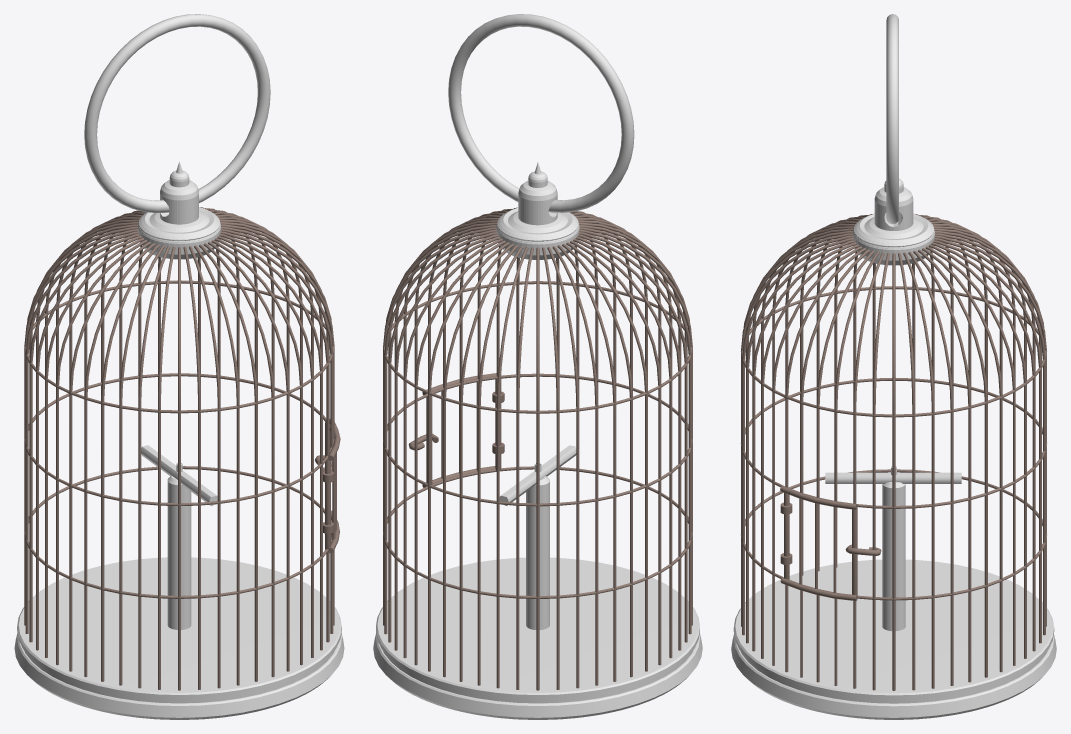
The model's file is bird_cage_test.fbx.
3 views of the same model, side by side, from view 1: azimuth 30°, elevation 25°; view 2: azimuth 150°, elevation 25°; view 3: azimuth 270°, elevation 25° (orthographic).
Parts seen in each view (by area): view 1: Cylinder.007, Cylinder.008, Cylinder.019, Cylinder.009, Cylinder.016, Cylinder.012, Cylinder.010, Cylinder.014; view 2: Cylinder.007, Cylinder.008, Cylinder.019, Cylinder.009, Cylinder.016, Cylinder.012, Cylinder.010, Cylinder.014; view 3: Cylinder.007, Cylinder.008, Cylinder.009, Cylinder.016, Cylinder.012, Cylinder.010, Cylinder.019, Cylinder.014.
Part boxes in pixels (x1=…): Cylinder.007: x1=24, y1=207, x2=334, y2=690; Cylinder.008: x1=14, y1=557, x2=344, y2=719; Cylinder.019: x1=84, y1=14, x2=270, y2=213; Cylinder.009: x1=24, y1=280, x2=334, y2=598; Cylinder.016: x1=138, y1=161, x2=220, y2=259; Cylinder.012: x1=167, y1=475, x2=191, y2=629; Cylinder.010: x1=323, y1=419, x2=340, y2=553; Cylinder.014: x1=141, y1=445, x2=217, y2=505; Cylinder.007: x1=383, y1=207, x2=692, y2=690; Cylinder.008: x1=373, y1=557, x2=702, y2=719; Cylinder.019: x1=448, y1=14, x2=634, y2=212; Cylinder.009: x1=383, y1=281, x2=692, y2=598; Cylinder.016: x1=496, y1=162, x2=579, y2=259; Cylinder.012: x1=526, y1=476, x2=549, y2=629; Cylinder.010: x1=422, y1=373, x2=504, y2=487; Cylinder.014: x1=499, y1=445, x2=576, y2=505; Cylinder.007: x1=741, y1=214, x2=1046, y2=690; Cylinder.008: x1=731, y1=559, x2=1056, y2=719; Cylinder.009: x1=740, y1=286, x2=1047, y2=600; Cylinder.016: x1=853, y1=178, x2=934, y2=265; Cylinder.012: x1=882, y1=482, x2=905, y2=630; Cylinder.010: x1=780, y1=486, x2=857, y2=600; Cylinder.019: x1=886, y1=14, x2=898, y2=224; Cylinder.014: x1=825, y1=472, x2=961, y2=483.
Size of the model in its own units: 61.87 by 132 by 61.87.
